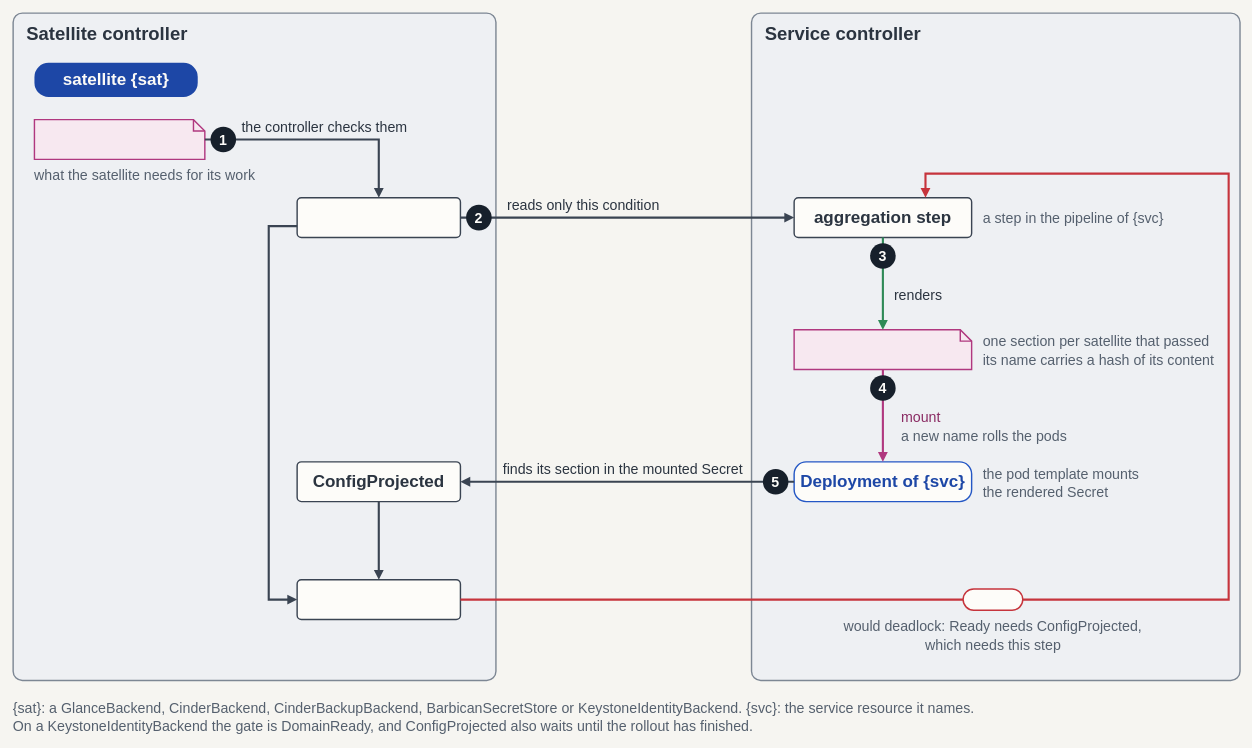
Image size: 1252x748. Some labels were removed from this diagram. The shapes that lost their labels are listed below. From the top down, each one's centre as x and y in pixels, then its label:
At pixel 119 139: "credentials Secret".
At pixel 378 217: "CredentialsReady".
At pixel 882 349: "rendered Secret".
At pixel 378 599: "Ready".
At pixel 992 599: "never".
